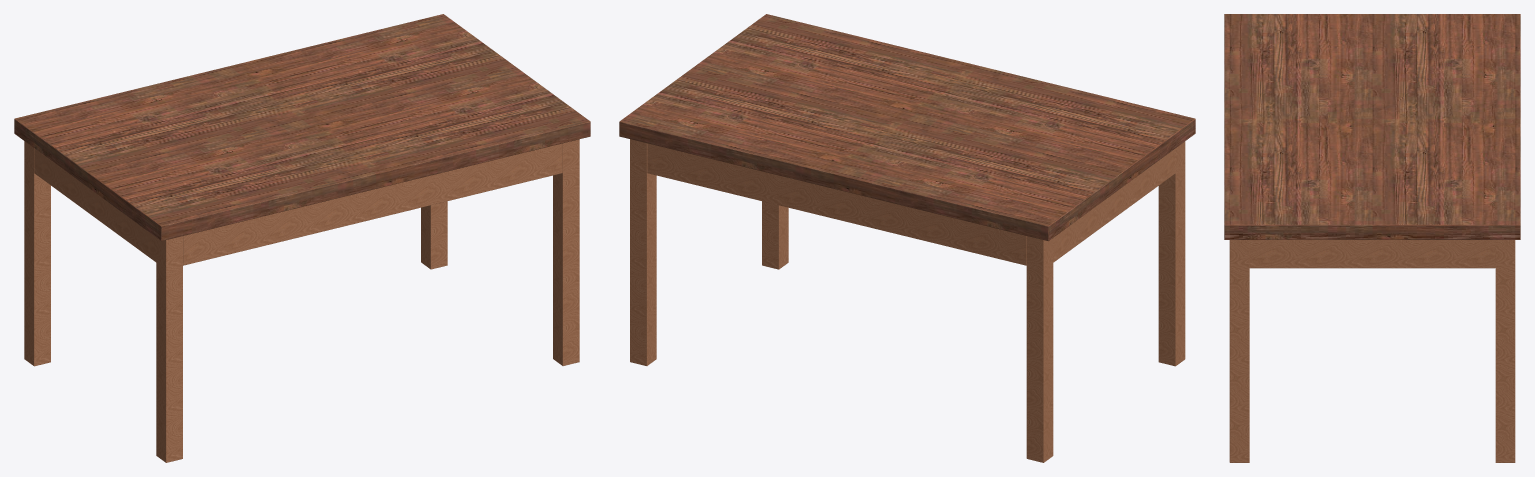
File: kitchen table.obj
3 views of the same model, side by side, from view 1: azimuth 30°, elevation 25°; view 2: azimuth 150°, elevation 25°; view 3: azimuth 270°, elevation 25° (orthographic).
Visible parts, largest first — view 1: Mesh1 table_top1 Group1 Model, Mesh9 table_fram1 Group1 Model, Mesh6 table_fram1 Group1 Model, Mesh5 table_fram1 Group1 Model, Mesh7 table_fram1 Group1 Model, Mesh3 table_fram1 Group1 Model, Mesh4 table_fram1 Group1 Model; view 2: Mesh1 table_top1 Group1 Model, Mesh8 table_fram1 Group1 Model, Mesh7 table_fram1 Group1 Model, Mesh4 table_fram1 Group1 Model, Mesh6 table_fram1 Group1 Model, Mesh3 table_fram1 Group1 Model, Mesh5 table_fram1 Group1 Model; view 3: Mesh1 table_top1 Group1 Model, Mesh2 table_fram1 Group1 Model, Mesh4 table_fram1 Group1 Model, Mesh5 table_fram1 Group1 Model.
Boxes of the visible parts, x1,y1,x2,y2 form: Mesh1 table_top1 Group1 Model: (14,14,590,241); Mesh9 table_fram1 Group1 Model: (183,143,562,265); Mesh6 table_fram1 Group1 Model: (156,236,182,462); Mesh5 table_fram1 Group1 Model: (553,139,579,365); Mesh7 table_fram1 Group1 Model: (24,141,50,366); Mesh3 table_fram1 Group1 Model: (34,148,156,262); Mesh4 table_fram1 Group1 Model: (421,201,447,269); Mesh1 table_top1 Group1 Model: (619,14,1195,241); Mesh8 table_fram1 Group1 Model: (647,143,1026,265); Mesh7 table_fram1 Group1 Model: (1026,236,1053,462); Mesh4 table_fram1 Group1 Model: (630,139,656,365); Mesh6 table_fram1 Group1 Model: (1158,141,1185,366); Mesh3 table_fram1 Group1 Model: (1053,148,1175,262); Mesh5 table_fram1 Group1 Model: (762,201,788,269); Mesh1 table_top1 Group1 Model: (1224,14,1520,239); Mesh2 table_fram1 Group1 Model: (1249,240,1495,268); Mesh4 table_fram1 Group1 Model: (1495,240,1515,462); Mesh5 table_fram1 Group1 Model: (1229,240,1249,462).
Bounding box in the file's own units: 319 × 170 × 189.
Materials: 2 (2 with a texture image).
